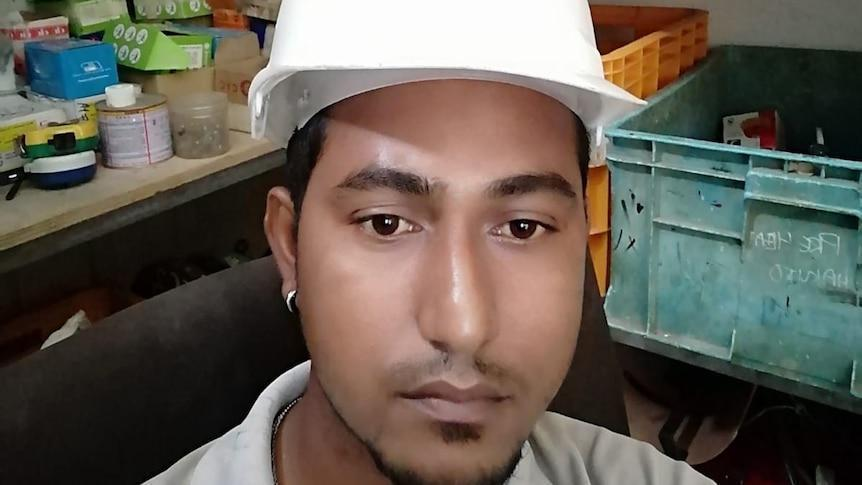helmet: (246, 0, 649, 151)
